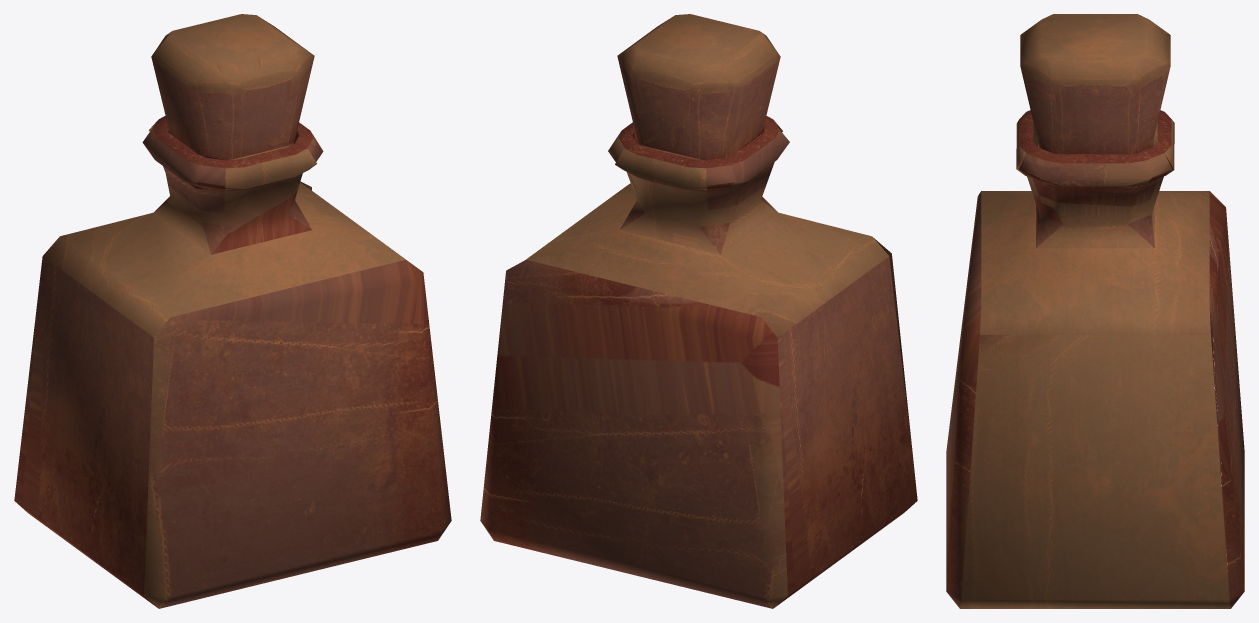
Rendered from pozione_grande.fbx.
3 views of the same model, side by side, from view 1: azimuth 30°, elevation 25°; view 2: azimuth 150°, elevation 25°; view 3: azimuth 270°, elevation 25° (orthographic). The views are drawn at different scales.
Visible parts, largest first — view 1: Cube, Cube.002; view 2: Cube, Cube.002; view 3: Cube, Cube.002.
Boxes of the visible parts, x1,y1,x2,y2 form: Cube: (14, 116, 451, 608); Cube.002: (151, 14, 314, 160); Cube: (480, 116, 917, 608); Cube.002: (617, 14, 780, 160); Cube: (946, 110, 1244, 608); Cube.002: (1020, 14, 1170, 187).
Bounding box in the file's own units: 132 × 200 × 108.
Materials: 3 (2 with a texture image).
